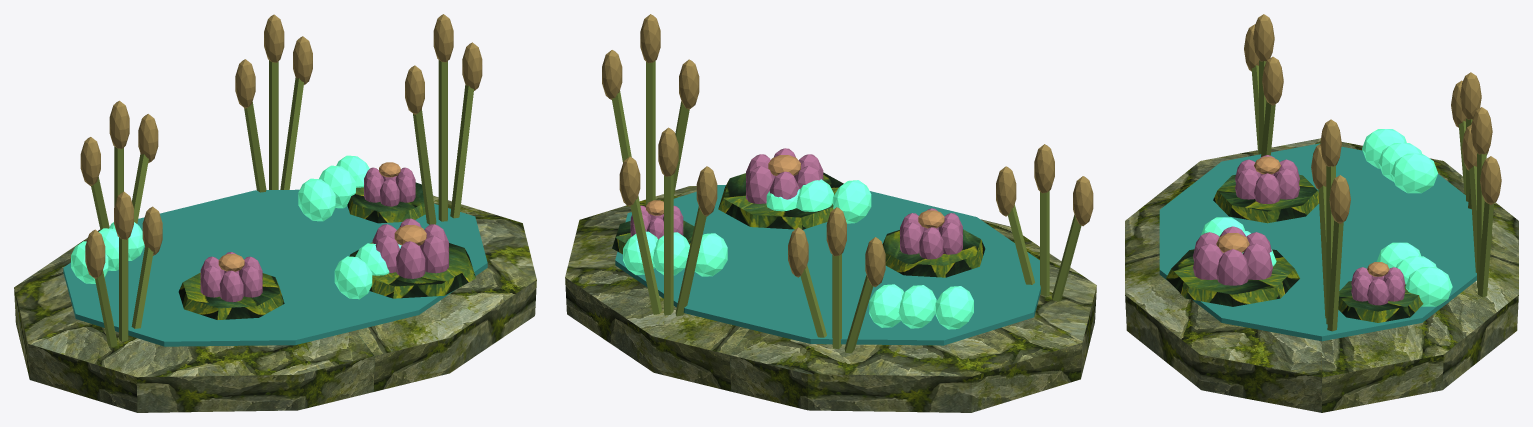
File: 06-tadpole-pond.glb
3 renders of one model, left to right at view 1: azimuth 30°, elevation 25°; view 2: azimuth 150°, elevation 25°; view 3: azimuth 270°, elevation 25°, orthographic. The views are drawn at different scales.
Visible parts, largest first — view 1: 06-tadpole-pond; view 2: 06-tadpole-pond; view 3: 06-tadpole-pond.
Part boxes in pixels (bbox=[...]): 06-tadpole-pond: bbox=[14, 14, 536, 412]; 06-tadpole-pond: bbox=[565, 14, 1096, 412]; 06-tadpole-pond: bbox=[1125, 14, 1518, 412].
Size of the model in its own units: 3.12 by 1.57 by 2.17.
8 materials, 2 textured.
